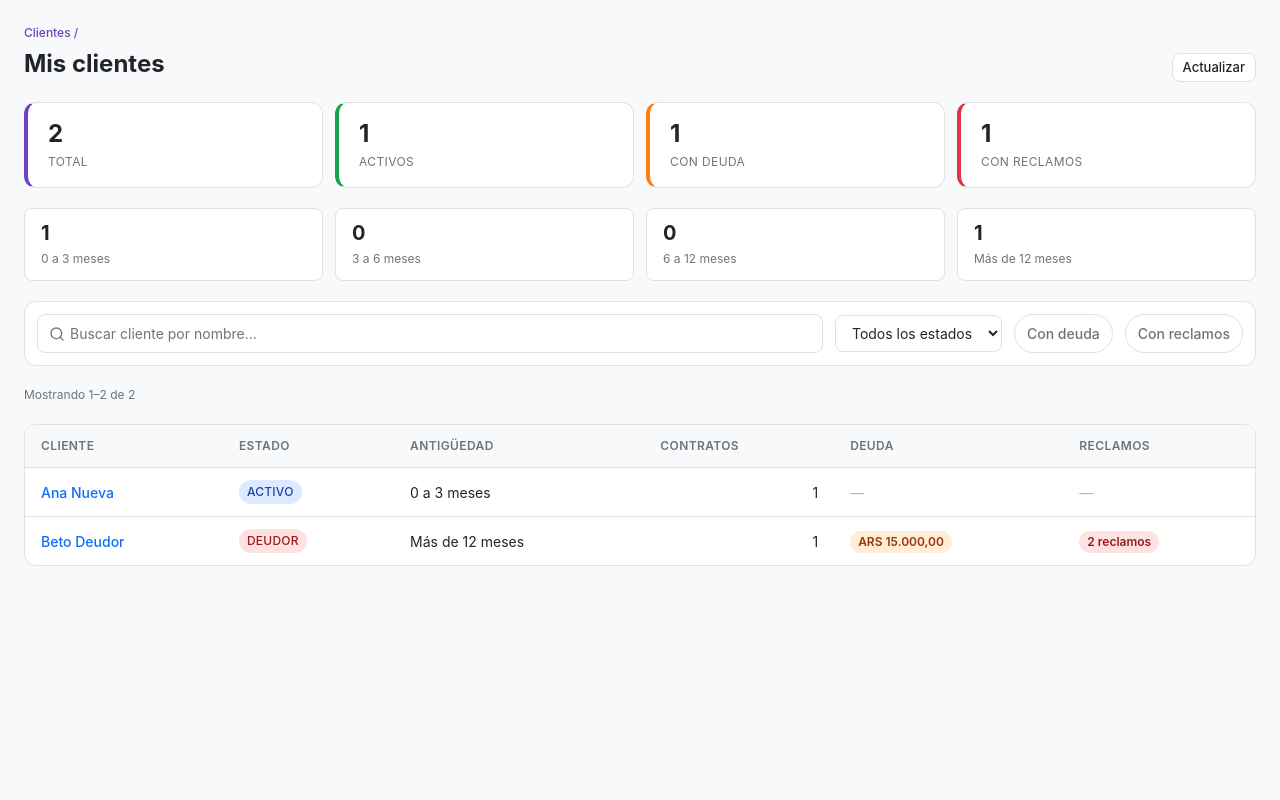
Test: MisClientesPage › filtering by status keeps only matching clients
Select "Deudor" in the dropdown named "Filtrar por estado" at (918,334), box [835,315,1002,352]
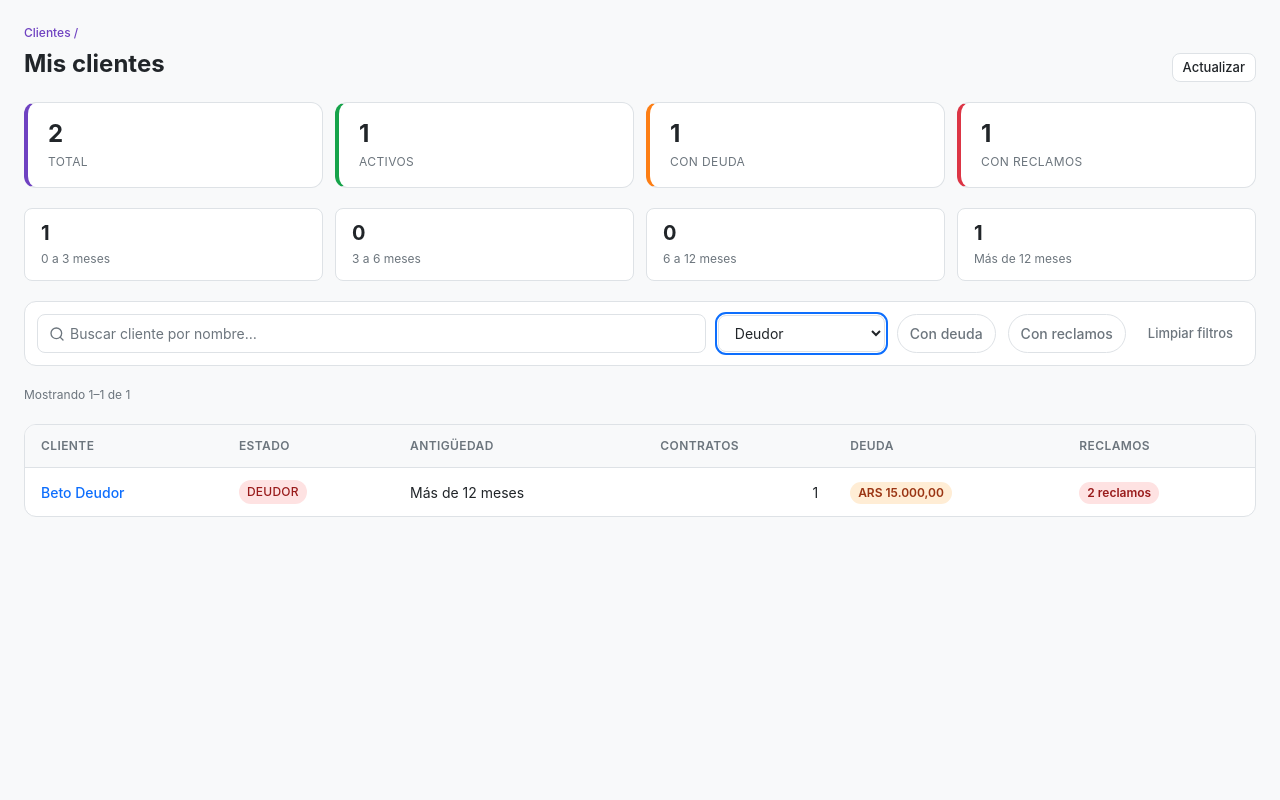
expect the link "Beto Deudor" is shown: met, box [41,484,124,500]
expect the link "Ana Nueva" is gone: met
